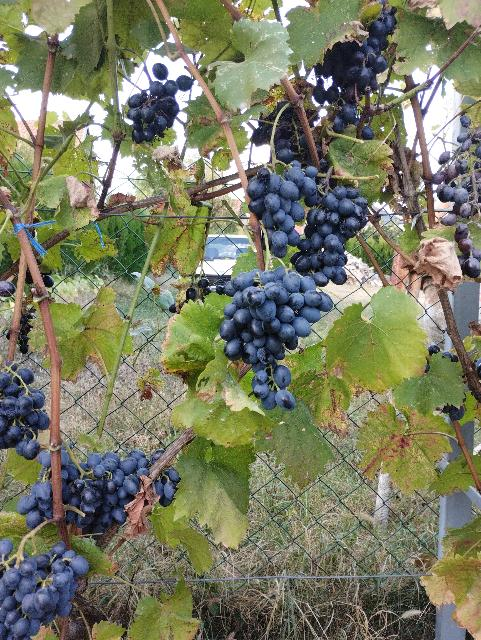grapes: (220, 268, 332, 411), (61, 449, 161, 539), (294, 185, 368, 286), (247, 165, 318, 259), (126, 76, 192, 144), (18, 450, 52, 530)
